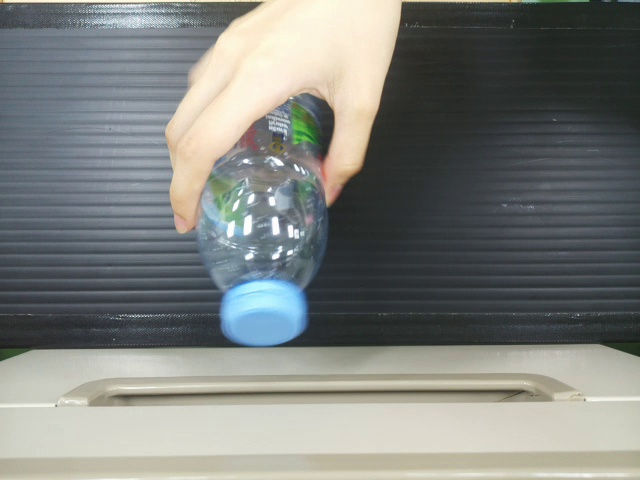bottle: (191, 91, 335, 344)
